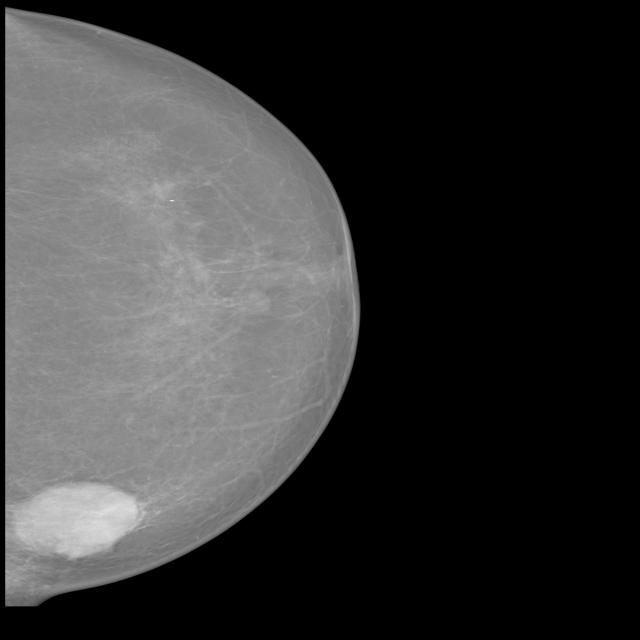Mass_1: (6, 460, 176, 581)
